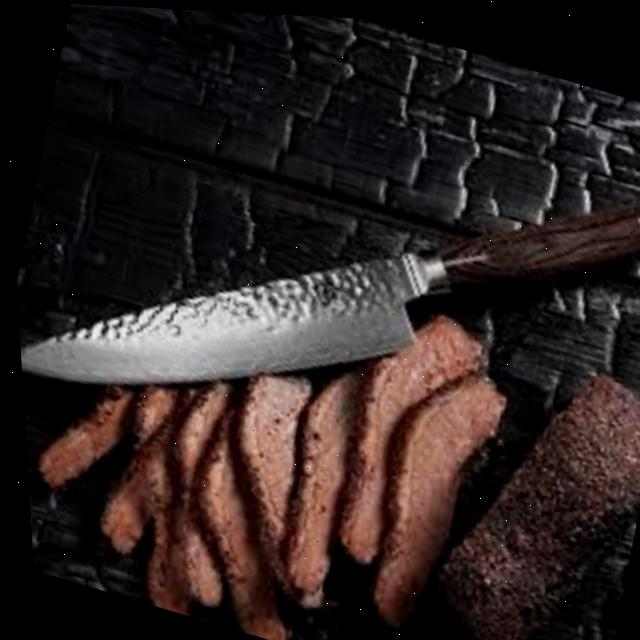Knife: (1, 26, 640, 543)
